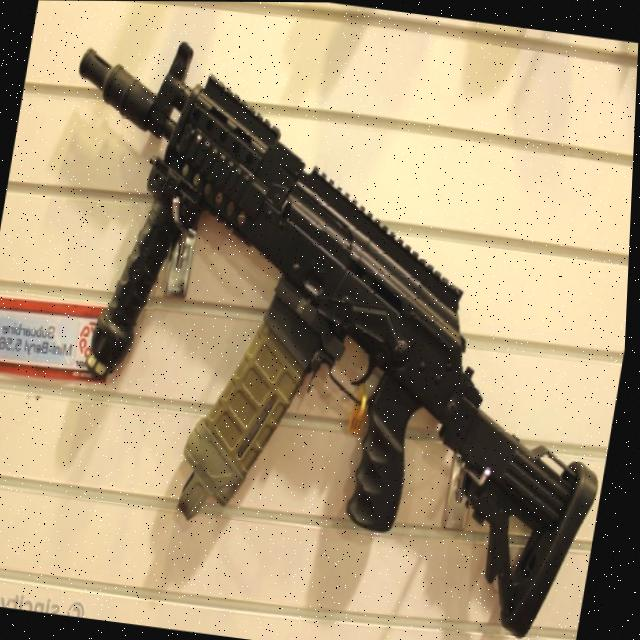firearm: (0, 24, 639, 640)
